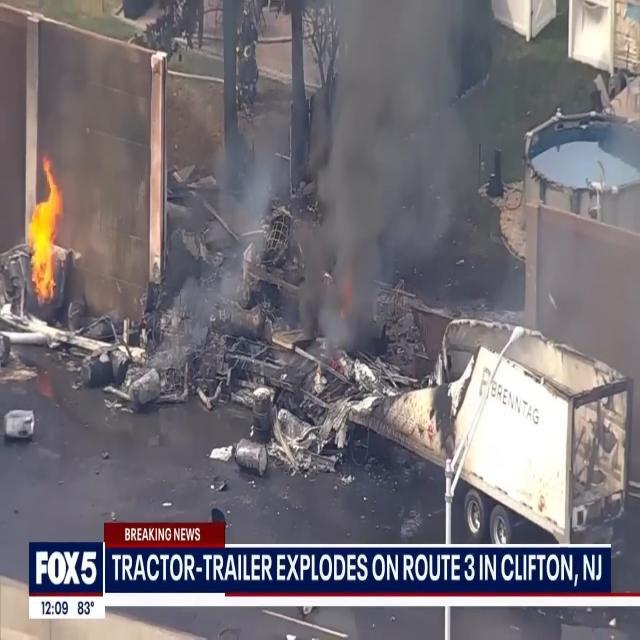fire: (22, 144, 72, 303)
